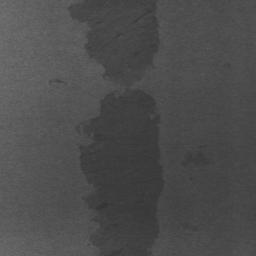Iron scale compression: (68, 0, 164, 256)
